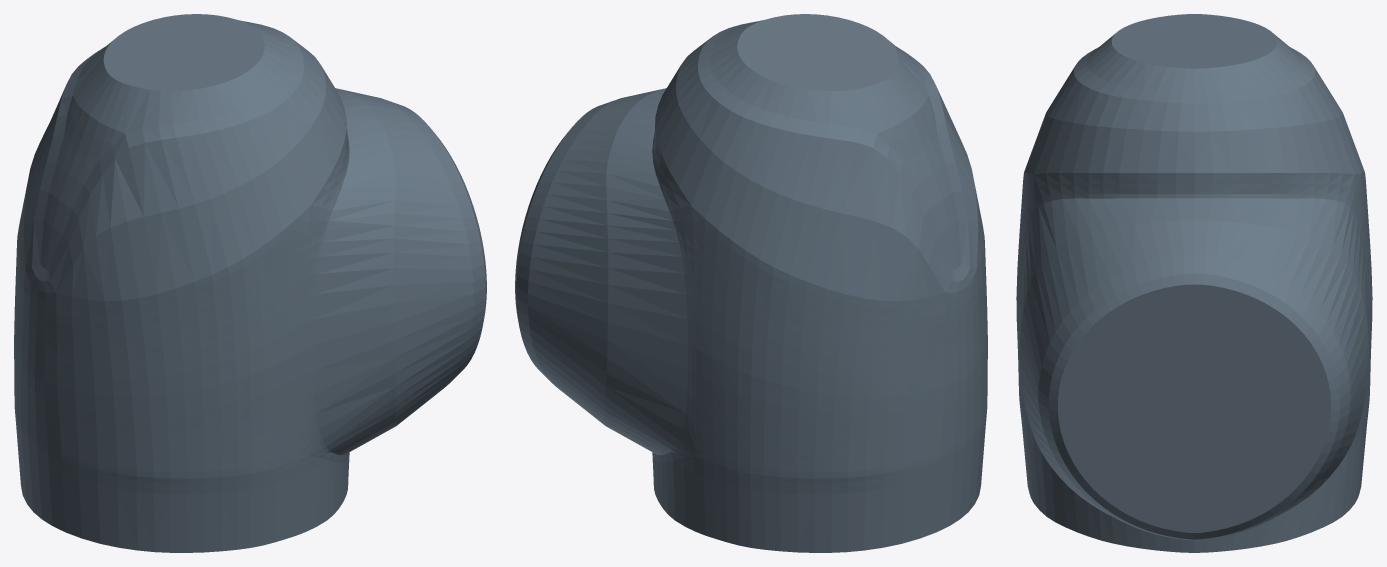
3 views of the same model, side by side, from view 1: azimuth 30°, elevation 25°; view 2: azimuth 150°, elevation 25°; view 3: azimuth 270°, elevation 25° (orthographic).
Parts seen in each view (by area): view 1: MF0609_2_0; view 2: MF0609_2_0; view 3: MF0609_2_0.
Part boxes in pixels (x1=…): MF0609_2_0: x1=14, y1=14, x2=486, y2=552; MF0609_2_0: x1=515, y1=14, x2=987, y2=552; MF0609_2_0: x1=1016, y1=14, x2=1372, y2=552.
Bounding box in the file's own units: 176 × 138 × 192.
